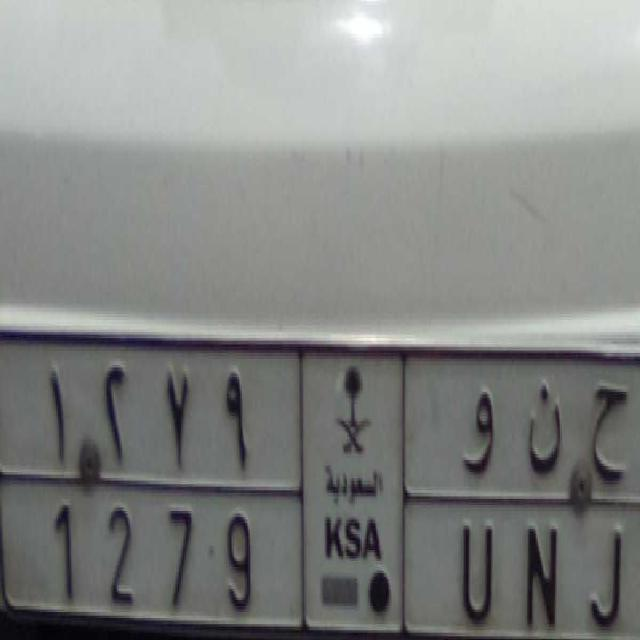license_plate: (0, 472, 640, 640)
